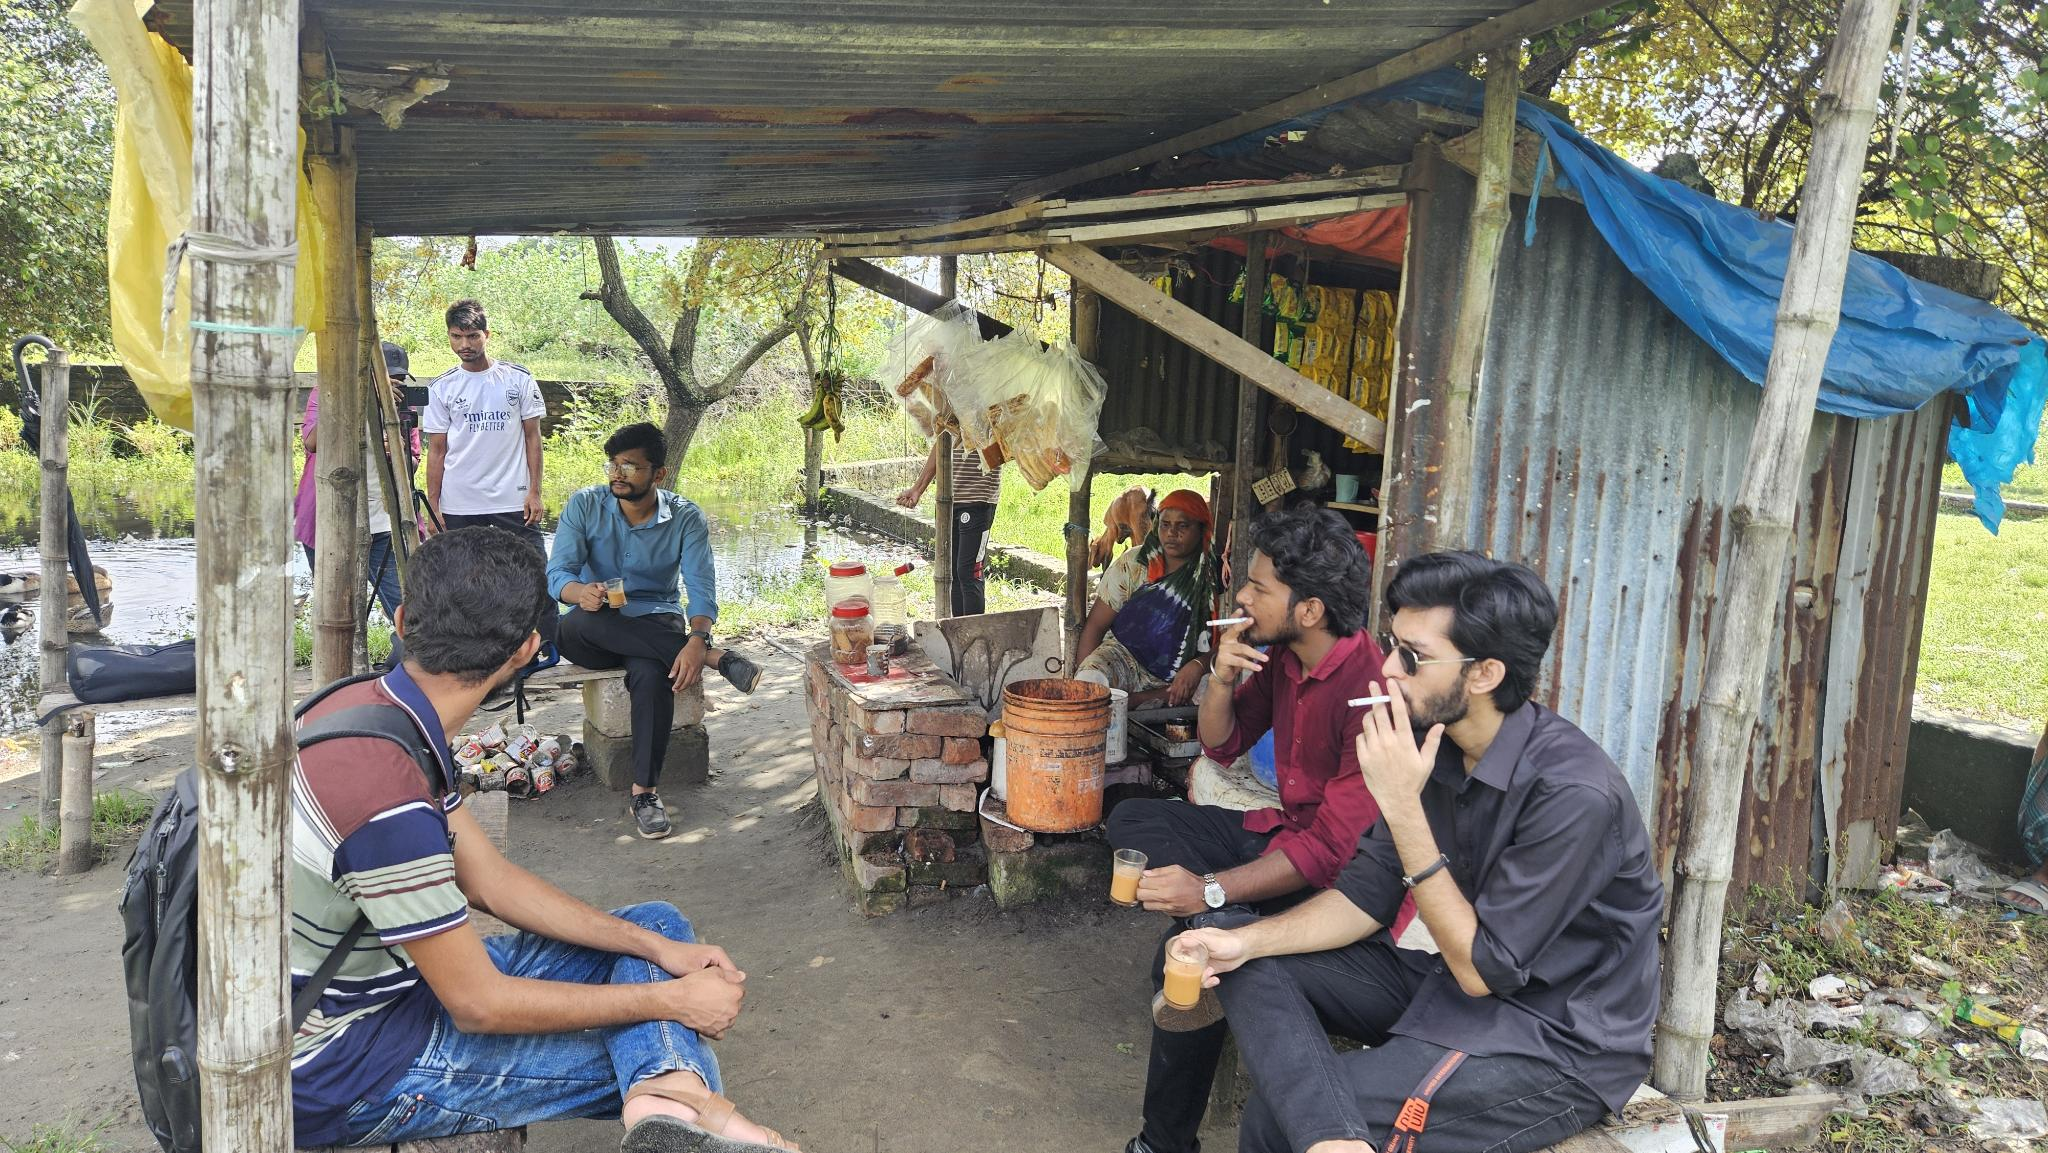cigarette: (1346, 693, 1393, 709), (1204, 616, 1249, 629)
nonSmoker: (294, 527, 799, 1153), (546, 422, 762, 838), (422, 299, 546, 560), (1076, 491, 1217, 706)
smoker: (1177, 554, 1661, 1153), (1108, 508, 1387, 925)
